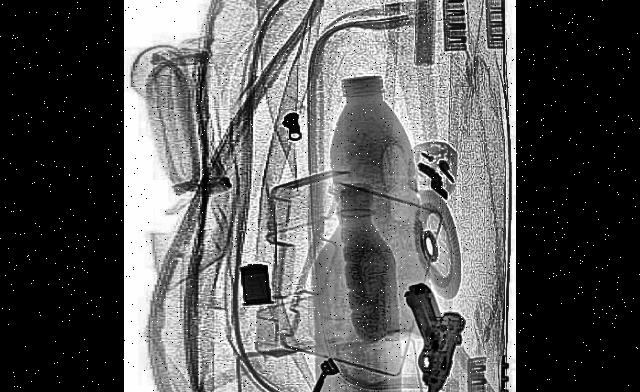Gun: (376, 272, 467, 392)
